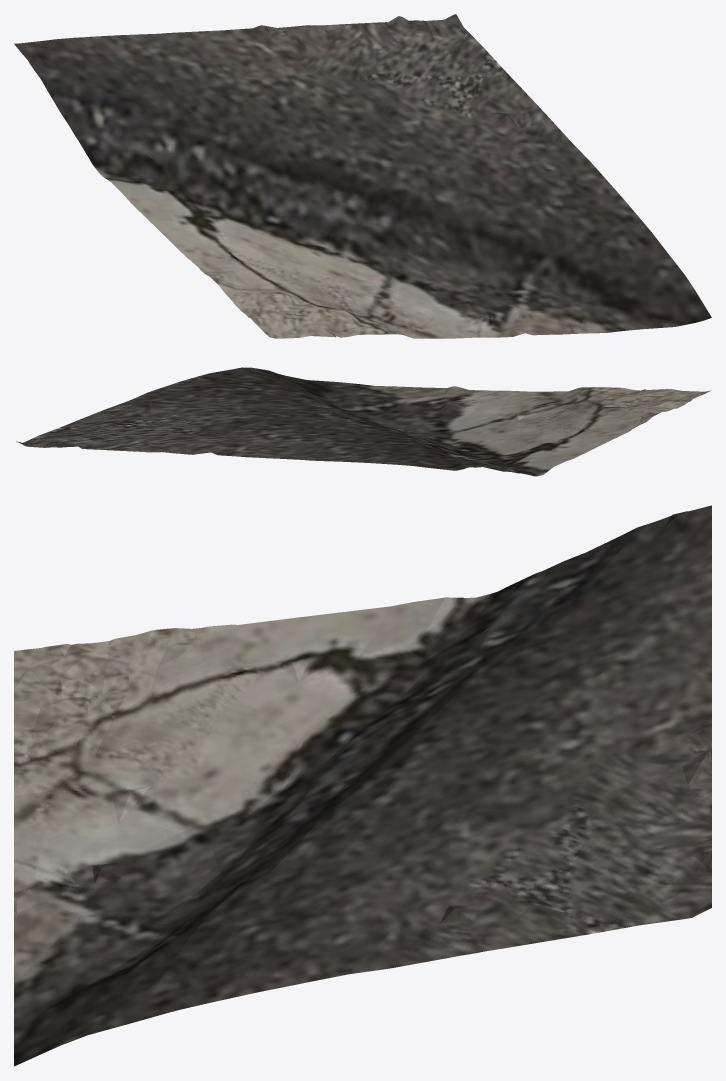
The picture shows the model from 3 angles, top to bottom: view 1: azimuth 30°, elevation 25°; view 2: azimuth 150°, elevation 25°; view 3: azimuth 270°, elevation 25°; orthographic projection. The views are drawn at different scales.
Bounding box in the file's own units: 0.8374 × 0.3545 × 0.8374.
3 materials, 3 textured.
